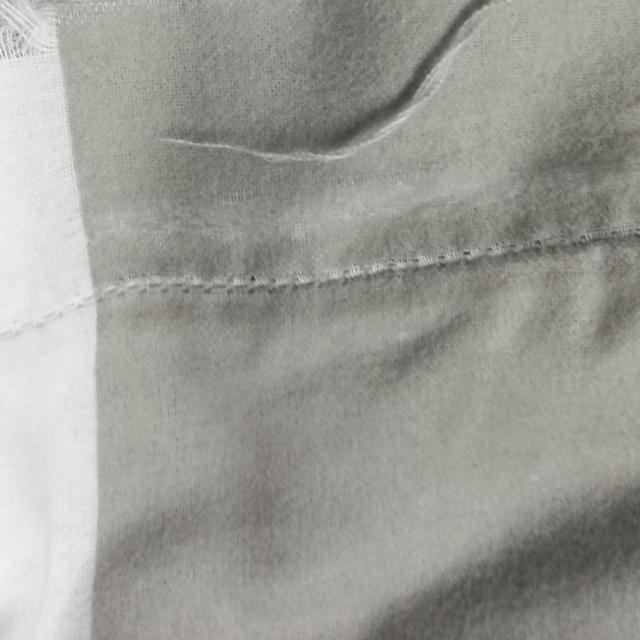gray stitch: (2, 217, 636, 350)
